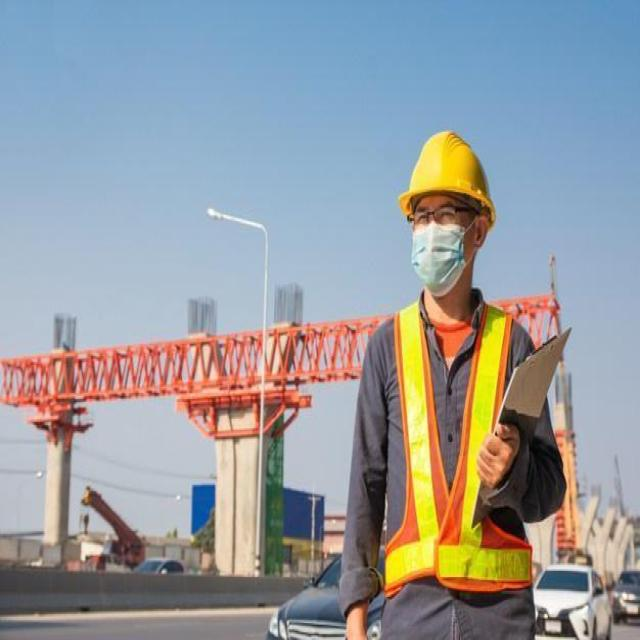helmet: (397, 130, 499, 218)
